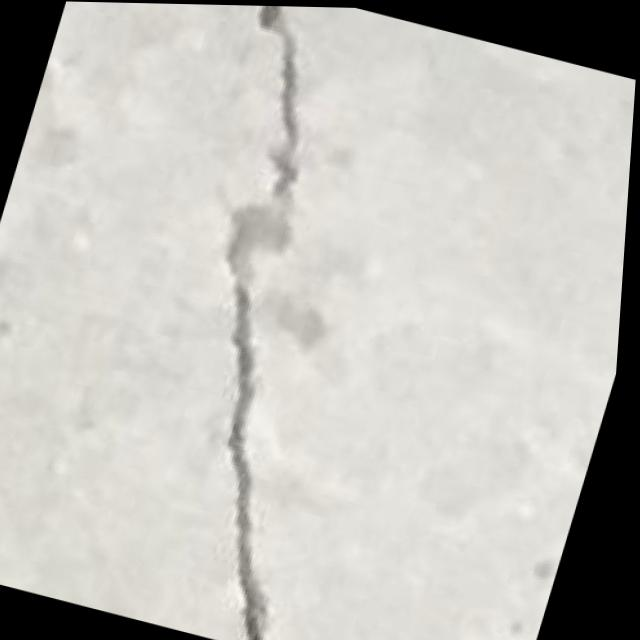Crack: (77, 2, 468, 640)
